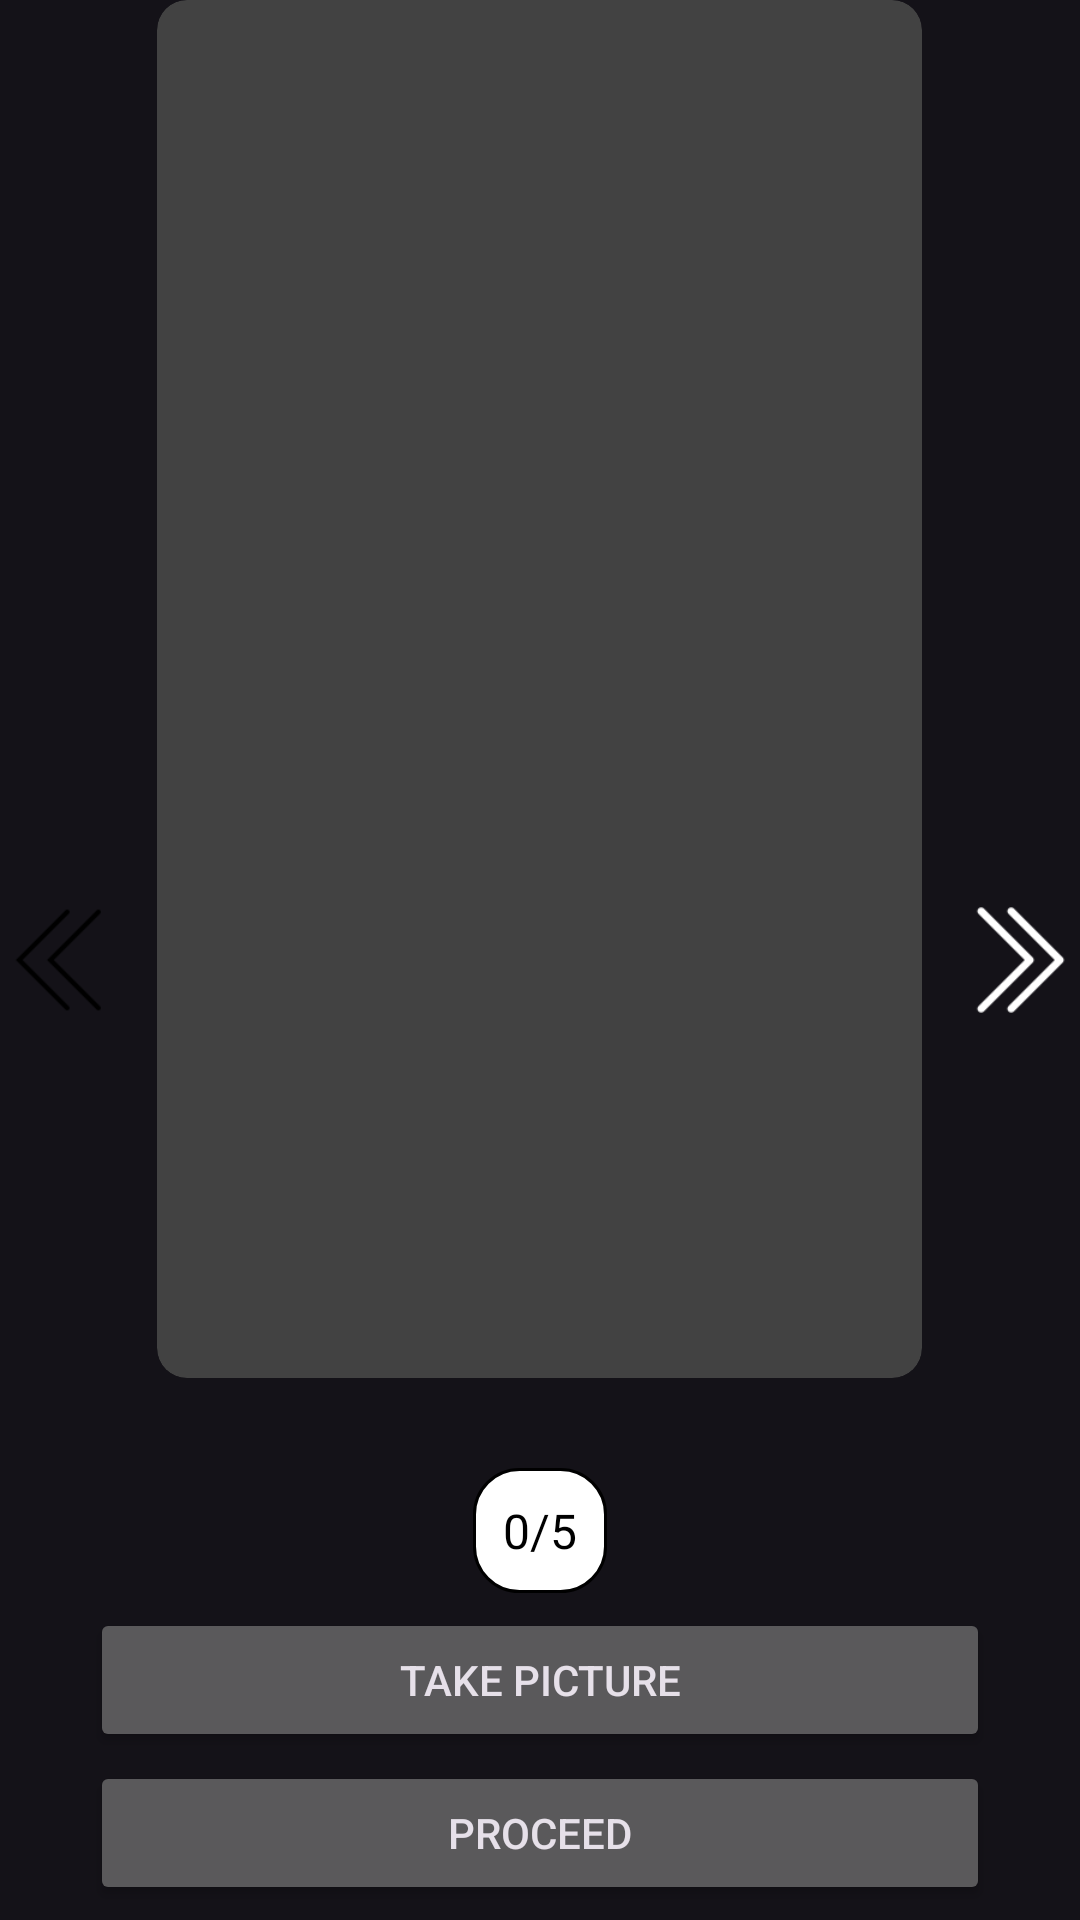

Screen size 1080w x 1920h. Icon name, then its box in pixels as detection(x1, y1, x2, y2):
right arrow: detection(977, 907, 1065, 1013)
